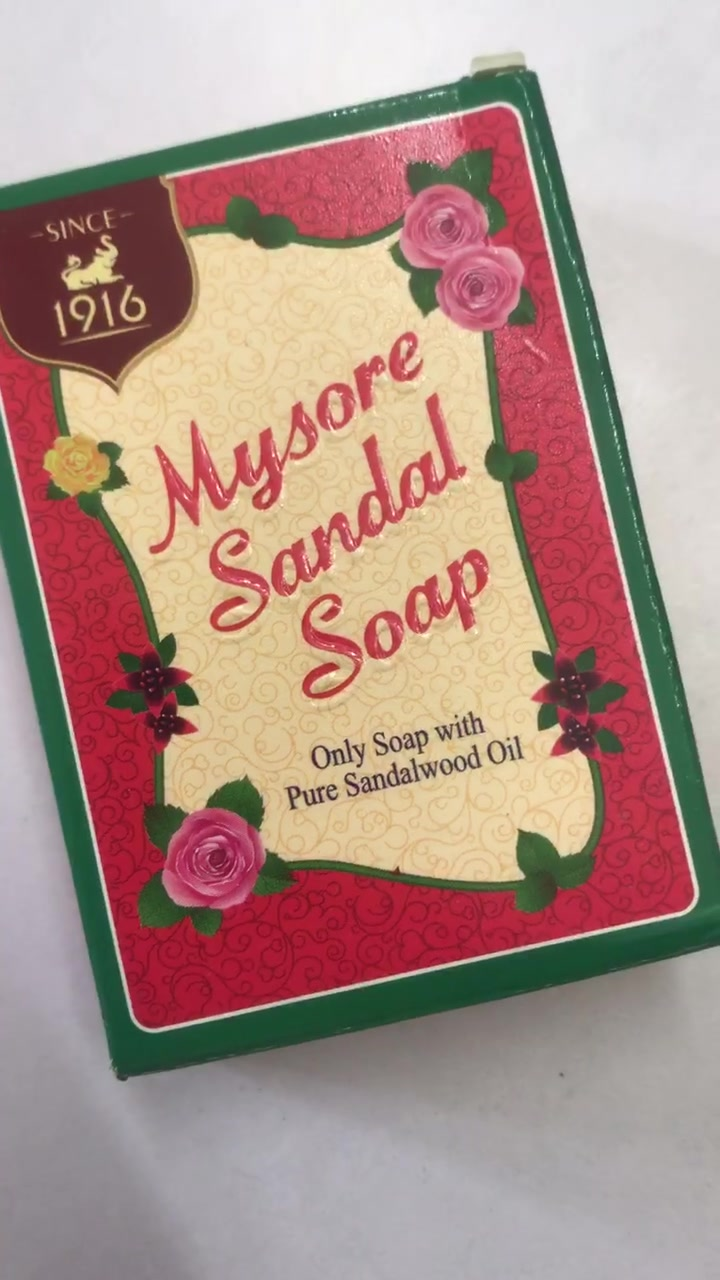mysore sandal soap: (6, 88, 719, 1077)
